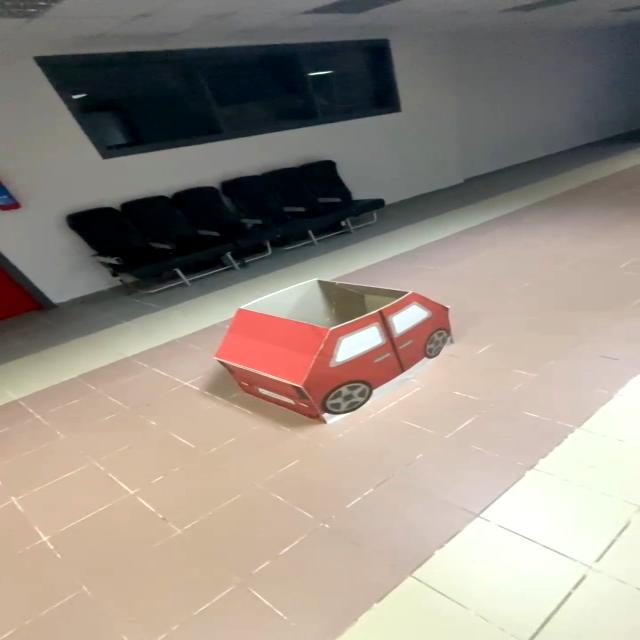red_car: (180, 266, 505, 447)
